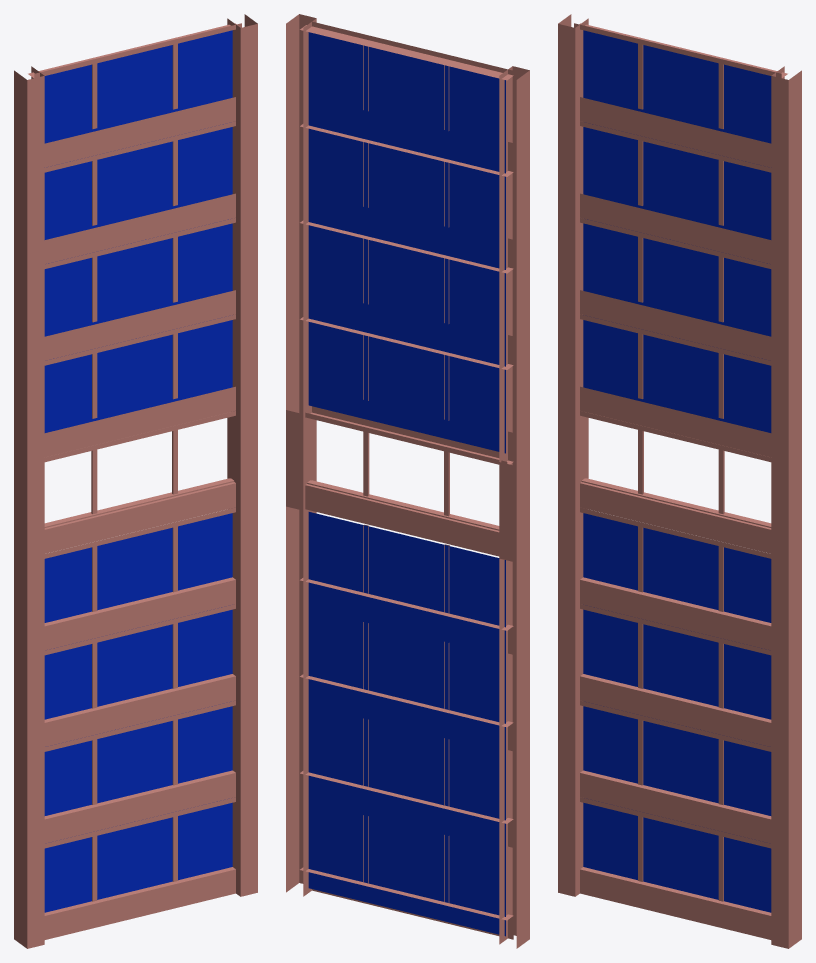
The model's file is Lvl4Wall.obj.
The picture shows the model from 3 angles, left to right: view 1: azimuth 30°, elevation 25°; view 2: azimuth 150°, elevation 25°; view 3: azimuth 330°, elevation 25°; orthographic projection.
Parts seen in each view (by area): view 1: Plane, Plane.001, Cube.042, Cube.032, Cube.039, Cube.051, Cube.003, Cube.026, Cube.011, Cube.020, Cube.008, Cube.029 (+27 smaller); view 2: Plane.001, Plane, Cube.003, Cube.007, Cube.029, Cube.002, Cube.054, Cube.043, Cube.048, Cube.012, Cube.017, Cube.023 (+20 smaller); view 3: Plane, Plane.001, Cube.042, Cube.032, Cube.039, Cube.051, Cube.003, Cube.026, Cube.011, Cube.020, Cube.008, Cube.031 (+27 smaller).
Part boxes in pixels (x1,y1,x2,y2): Plane: (44,30,232,432); Plane.001: (44,513,232,912); Cube.042: (44,770,235,843); Cube.032: (44,577,235,650); Cube.039: (44,674,235,746); Cube.051: (44,867,235,939); Cube.003: (44,478,235,553); Cube.026: (44,97,235,167); Cube.011: (44,290,235,360); Cube.020: (44,193,235,263); Cube.008: (44,386,235,457); Cube.029: (14,66,44,176); Plane.001: (308,512,505,936); Plane: (308,32,505,453); Cube.003: (305,480,499,556); Cube.007: (499,452,529,562); Cube.029: (499,66,529,175); Cube.002: (286,400,316,510); Cube.054: (499,839,529,948); Cube.043: (499,645,529,755); Cube.048: (499,742,529,851); Cube.012: (499,356,529,465); Cube.017: (499,259,529,369); Cube.023: (499,163,529,272); Plane: (583,30,771,432); Plane.001: (583,513,771,912); Cube.042: (580,770,771,843); Cube.032: (580,577,771,650); Cube.039: (580,674,771,746); Cube.051: (580,867,771,939); Cube.003: (580,478,771,553); Cube.026: (580,97,771,167); Cube.011: (580,290,771,360); Cube.020: (580,193,771,263); Cube.008: (580,386,771,457); Cube.031: (771,66,801,176).
Size of the model in its own units: 10 by 36 by 1.
